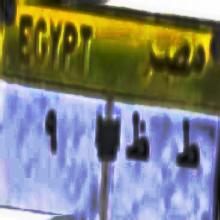9: (42, 106, 61, 164)
Taa: (175, 116, 202, 184)
Thaa: (122, 106, 152, 171)
